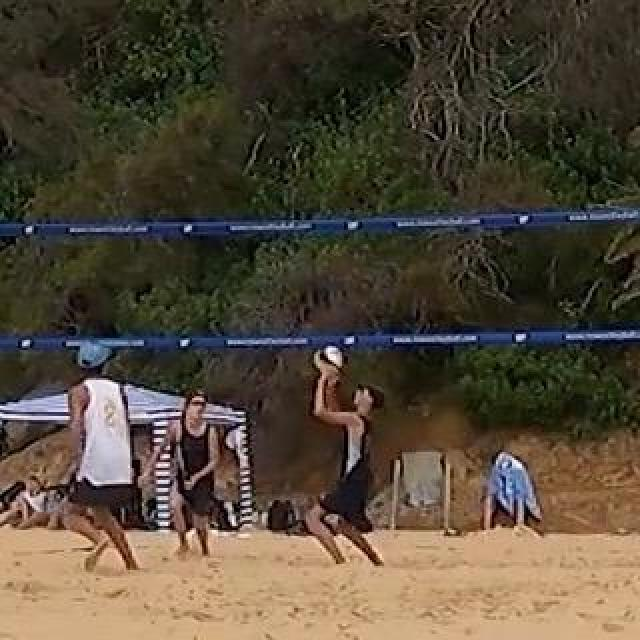volleyball: (315, 345, 343, 373)
